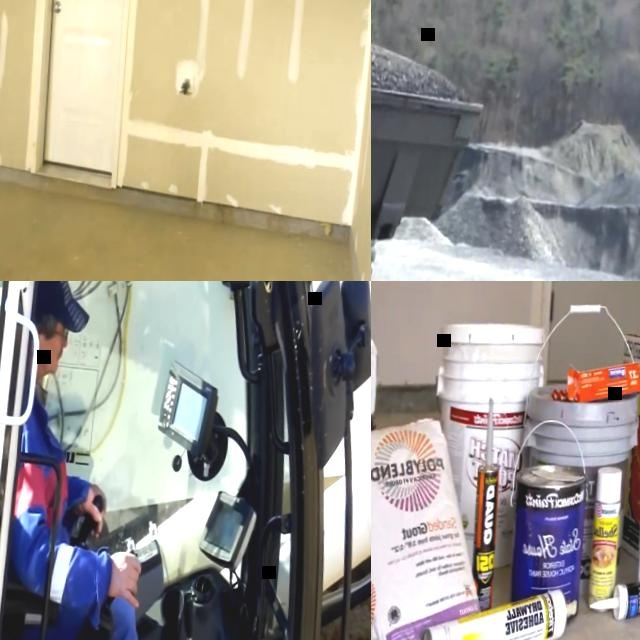NO-Hardhat: (30, 281, 75, 332)
NO-Mask: (38, 341, 64, 371)
Person: (0, 281, 173, 640)
Safety Vest: (7, 409, 82, 615)
machinery: (0, 281, 371, 640), (371, 0, 500, 281)
